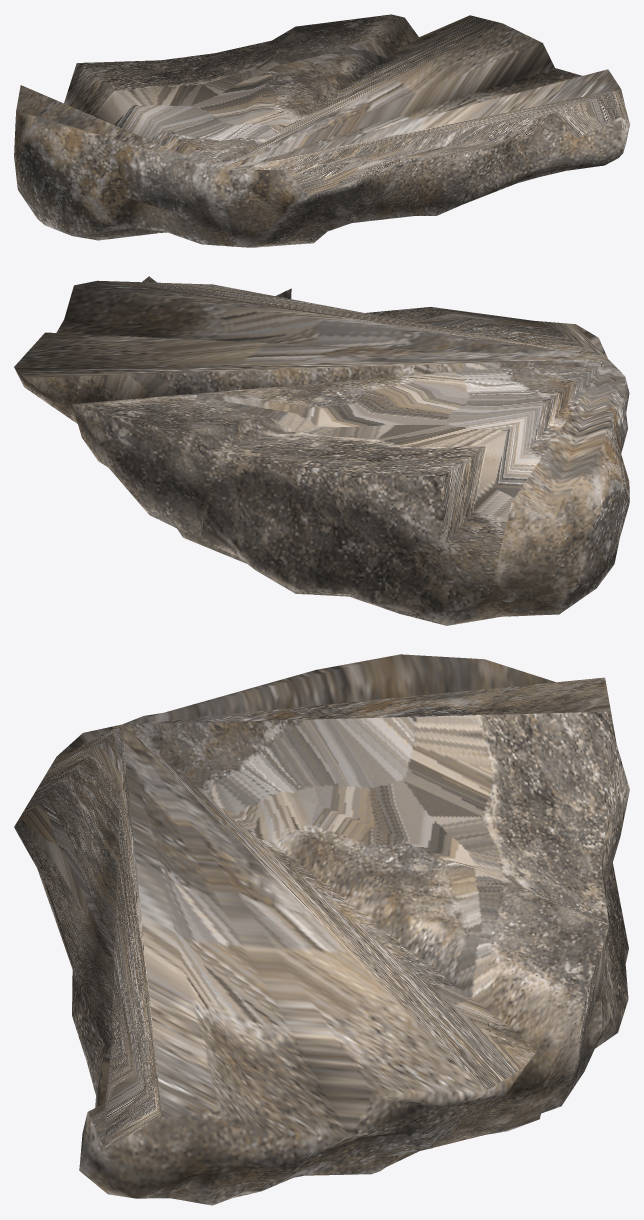
Rendered from stenasverhu3kamen.fbx.
3 renders of one model, top to bottom at view 1: azimuth 30°, elevation 25°; view 2: azimuth 150°, elevation 25°; view 3: azimuth 270°, elevation 25°, orthographic. The views are drawn at different scales.
Parts seen in each view (by area): view 1: rock.002; view 2: rock.002; view 3: rock.002.
Boxes of the visible parts, x1=… form: rock.002: x1=14, y1=14, x2=629, y2=247; rock.002: x1=14, y1=276, x2=629, y2=625; rock.002: x1=14, y1=654, x2=629, y2=1205.
Bounding box in the file's own units: 108 × 29.13 × 65.2.
